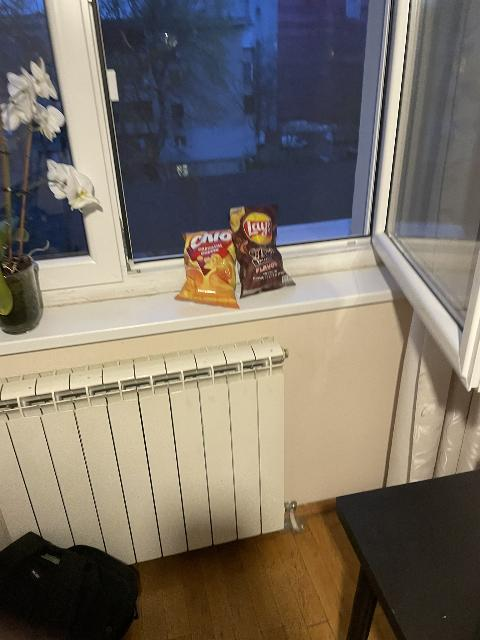Chio Cascaval 125g: (176, 230, 239, 308)
Lays Beef Grilled Ribs 125g: (229, 204, 298, 300)
